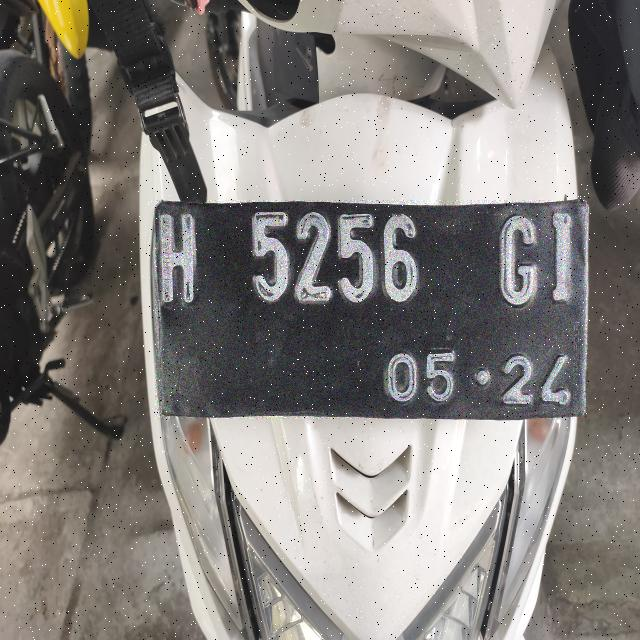plate: (155, 201, 587, 418)
